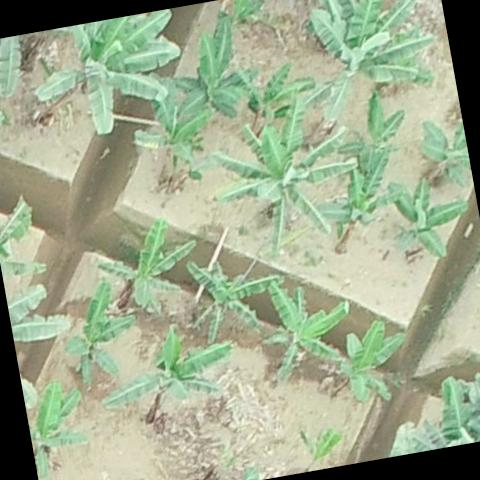Banana-plant: (208, 92, 370, 248), (24, 8, 194, 146), (301, 0, 443, 99), (93, 211, 210, 328), (94, 322, 241, 412), (255, 271, 360, 382), (182, 244, 294, 347), (56, 278, 146, 388), (376, 174, 474, 264), (168, 23, 256, 122), (330, 315, 418, 406), (330, 82, 413, 174), (22, 382, 92, 478), (308, 160, 398, 232), (412, 108, 474, 190)
